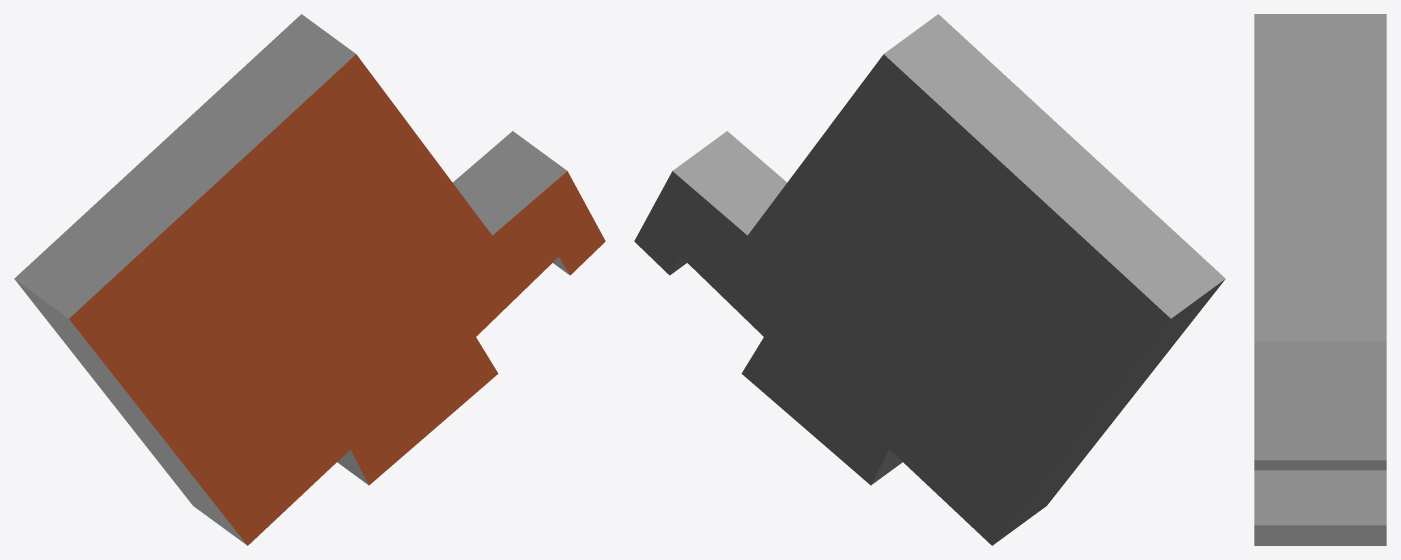
Rendered from construction_2648_assumed_A_Casa_h6m.obj.
The picture shows the model from 3 angles, left to right: view 1: azimuth 30°, elevation 25°; view 2: azimuth 150°, elevation 25°; view 3: azimuth 270°, elevation 25°; orthographic projection. The views are drawn at different scales.
Visible parts, largest first — view 1: construction_2648_assumed_A_Casa; view 2: construction_2648_assumed_A_Casa; view 3: construction_2648_assumed_A_Casa.
Part boxes in pixels (left/top/right/bottom): construction_2648_assumed_A_Casa: left=14, top=14, right=605, bottom=545; construction_2648_assumed_A_Casa: left=634, top=14, right=1225, bottom=545; construction_2648_assumed_A_Casa: left=1254, top=14, right=1386, bottom=545.
Size of the model in its own units: 33.95 by 28.12 by 6.
